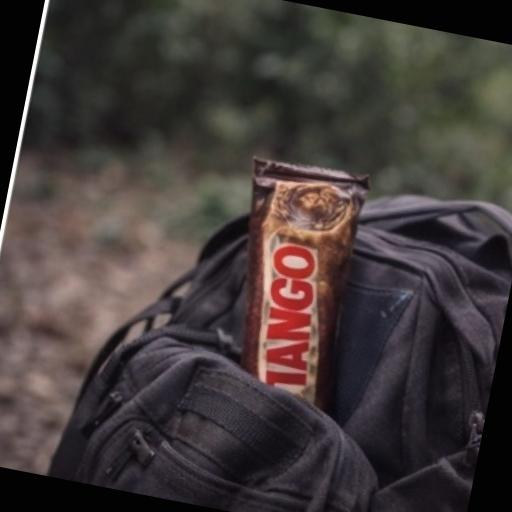tango: (135, 115, 480, 512)
